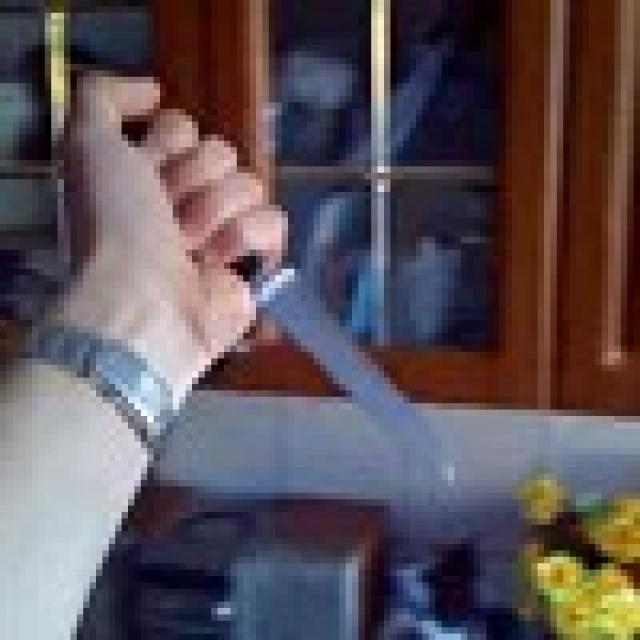knife: (128, 109, 455, 487)
